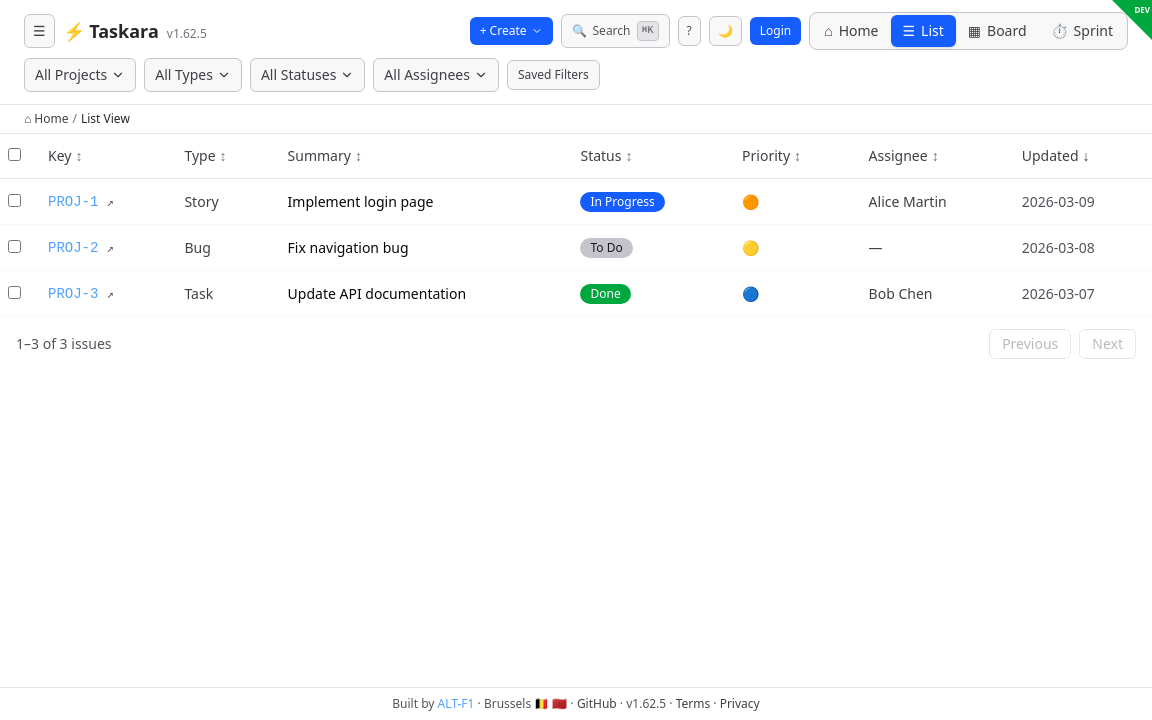
Scenario: Feature: Rich text description editing › Scenario: Clicking Edit shows a rich text editor with toolbar › Given the ADF description is displayed, when clicking Edit, then a rich text editor with formatting toolbar should appear
Click the text "PROJ-1" at (576, 202), box x1=0 y1=178 x2=1151 y2=224
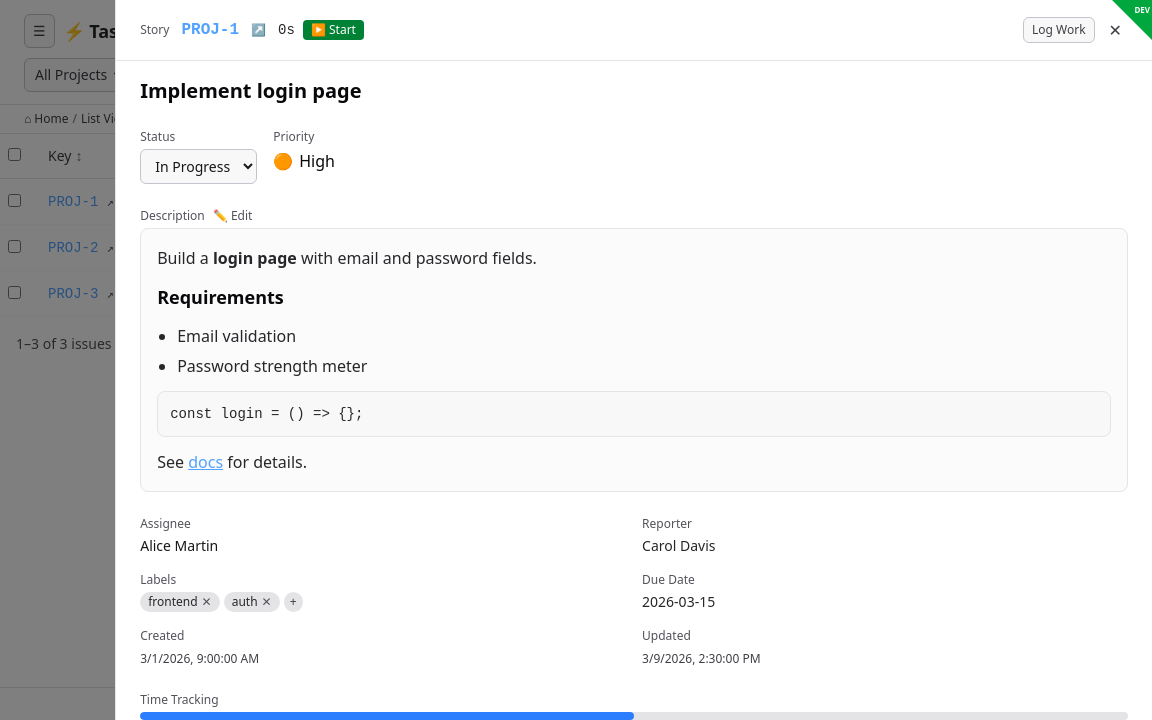
Click the button with aria-label "Edit description" at (233, 216), box x1=213 y1=208 x2=252 y2=224
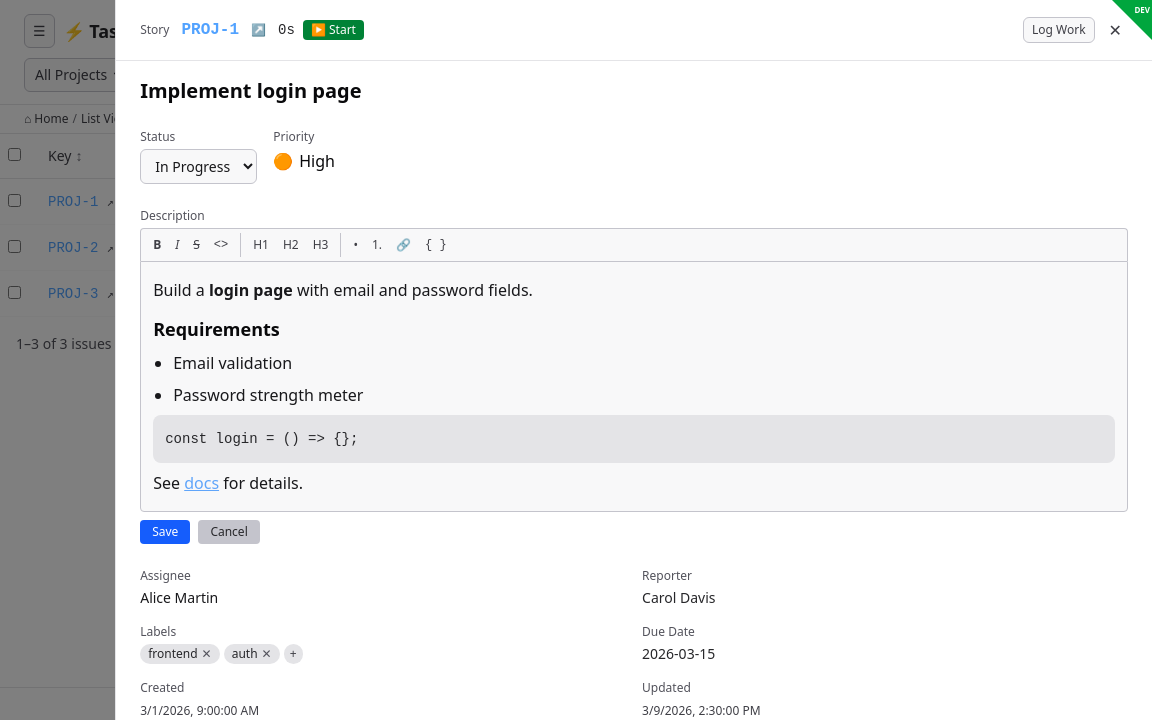
Expected: the field named "Rich text editor" is shown, x1=140 y1=228 x2=1128 y2=544
Expected: the element named "Formatting toolbar" is shown, x1=140 y1=228 x2=1128 y2=261
Expected: the button named "Bold" is shown, x1=147 y1=233 x2=167 y2=257
